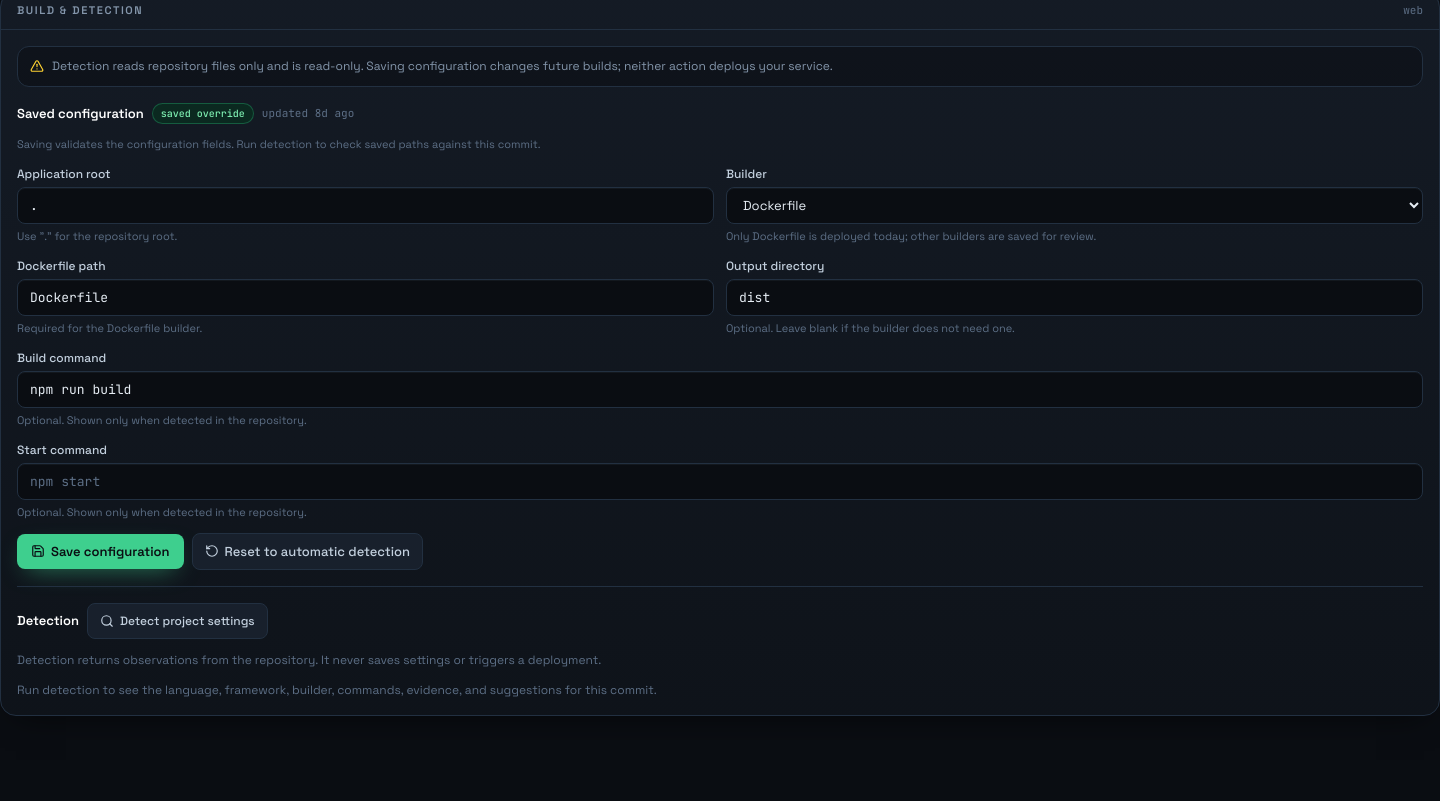
BuildConfigPanel › renders monorepo candidates without selecting one automatically
The image size is (1440, 801).
Expected: the field showing "." is shown, x1=17 y1=186 x2=714 y2=224
What coordinates should you click on to do the following:
click the button "Detect project settings"
I would click on:
 (177, 621)
Its box is x1=87 y1=603 x2=268 y2=639.
(page scrolled)
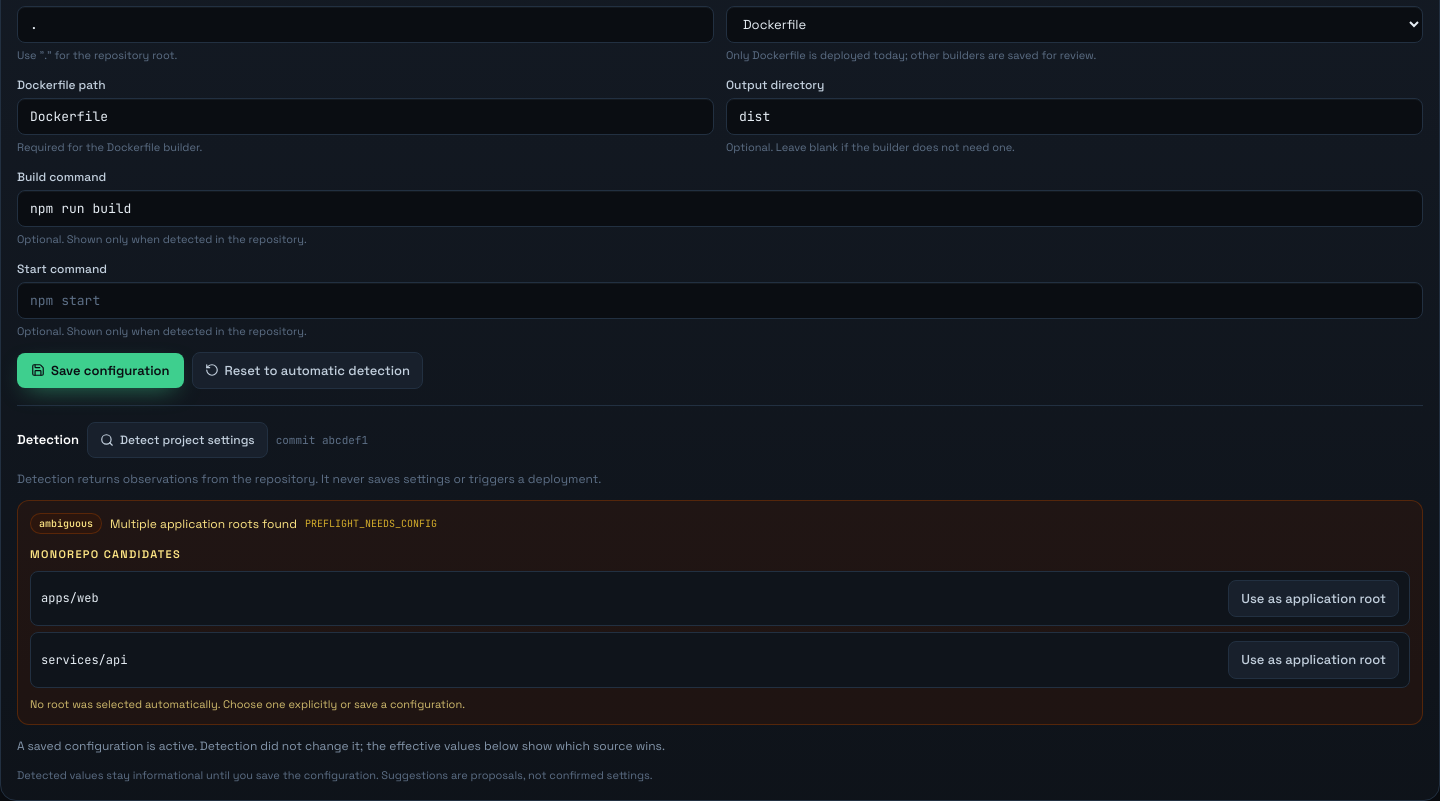
Now the heading "Monorepo candidates" is shown, box x1=30 y1=547 x2=181 y2=561
Now the text "apps/web" is shown, box x1=41 y1=589 x2=99 y2=607
Now the text "services/api" is shown, box x1=41 y1=651 x2=127 y2=669
What coordinates should you click on to do the following:
click the button "Use as application root" in the row of "services/api"
I would click on:
 (1314, 660)
Its box is x1=1228 y1=641 x2=1399 y2=678.
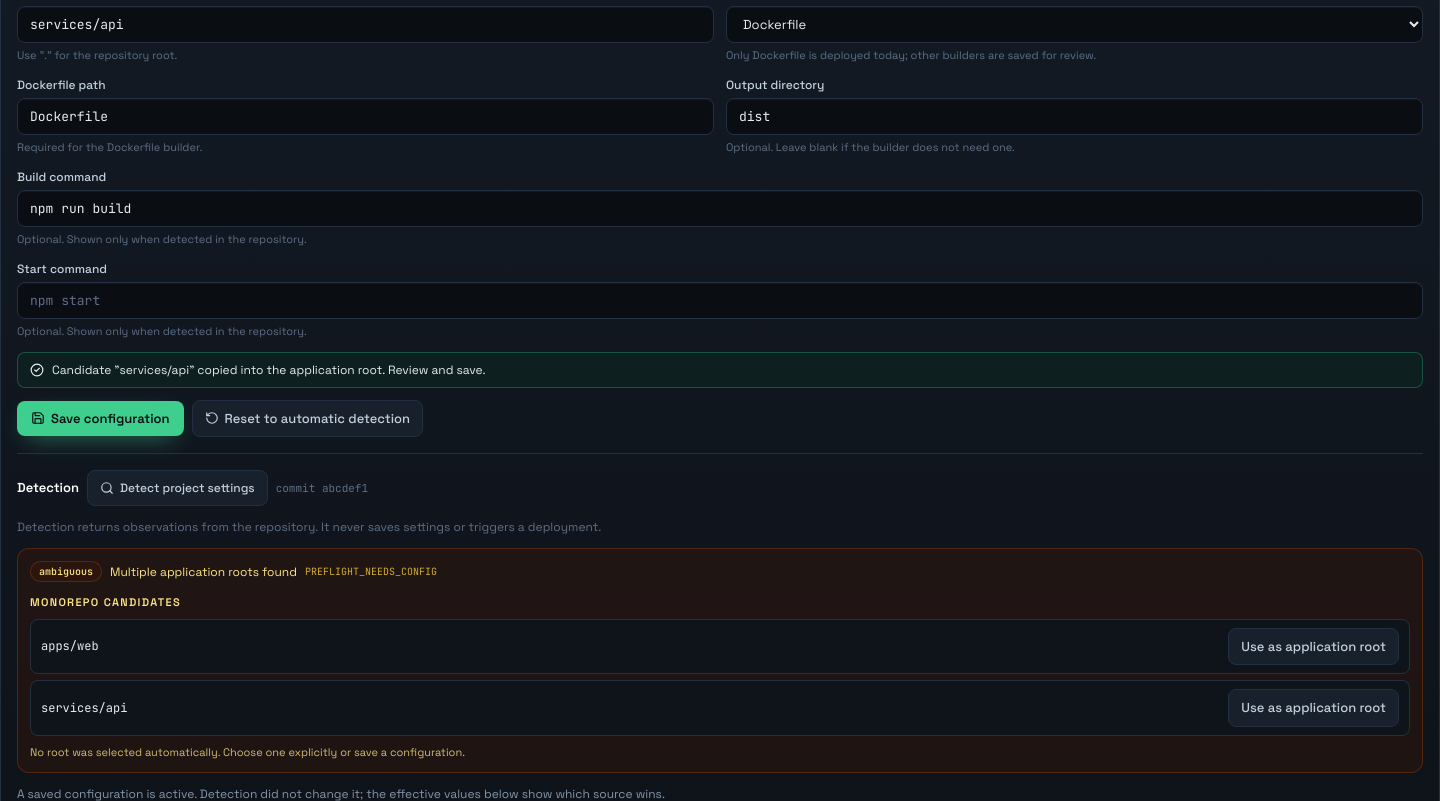
Now the field labelled "Application root" holds "services/api", box x1=17 y1=6 x2=714 y2=43
